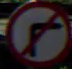Don't turn right: (7, 7, 62, 59)
